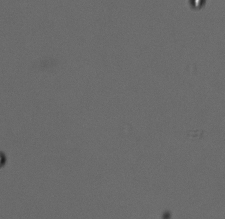Living Cell: (188, 1, 207, 9)
